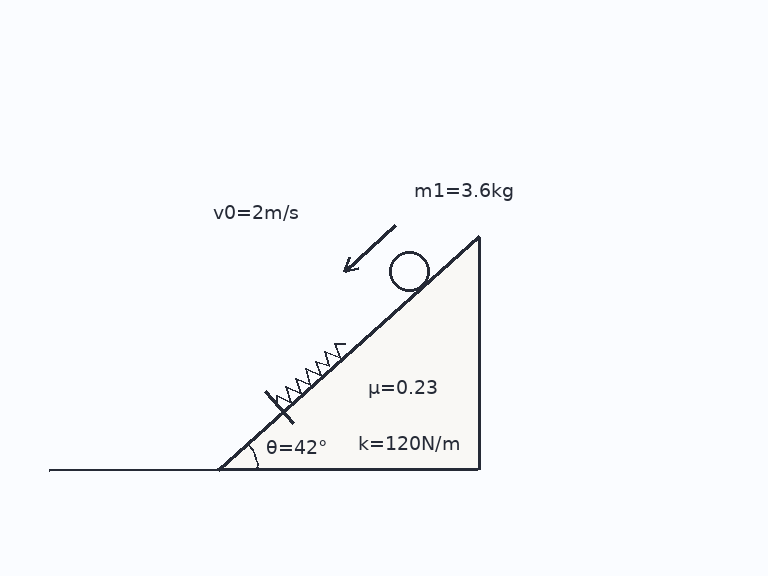ball: (387, 249, 431, 293)
ramp: (216, 234, 480, 472)
spring: (275, 341, 347, 407)
